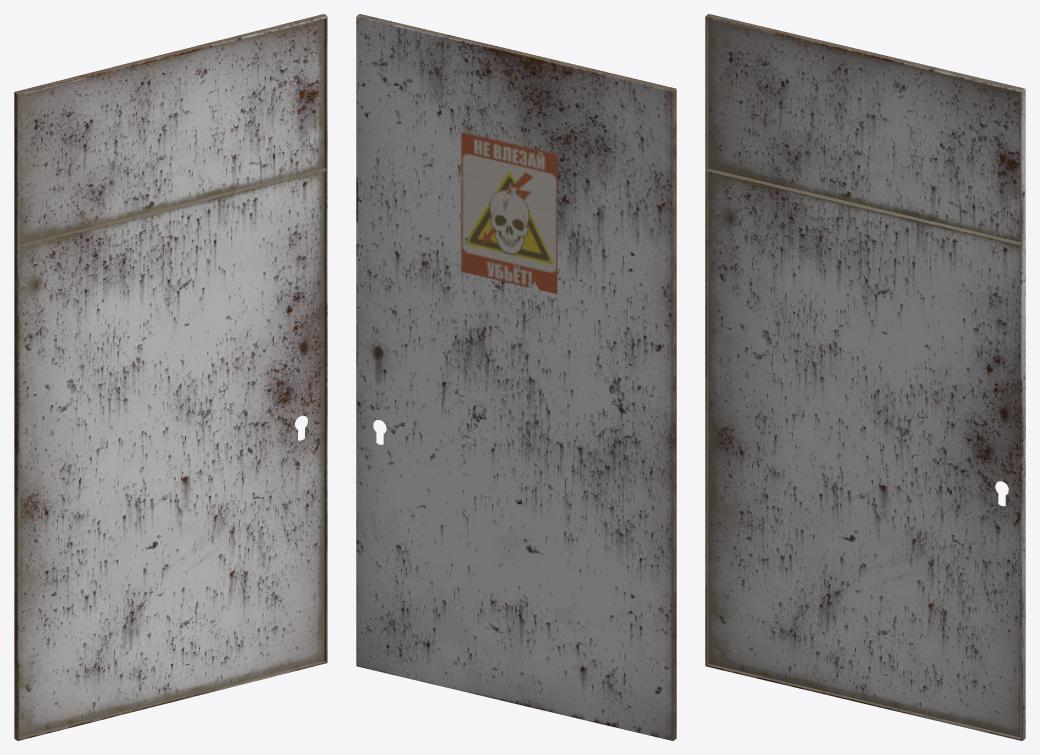
The model's file is elect door 1.fbx.
3 renders of one model, left to right at view 1: azimuth 30°, elevation 25°; view 2: azimuth 150°, elevation 25°; view 3: azimuth 330°, elevation 25°, orthographic.
Parts seen in each view (by area): view 1: Куб.002; view 2: Куб.002; view 3: Куб.002.
Boxes of the visible parts, x1=… form: Куб.002: x1=14, y1=14, x2=327, y2=740; Куб.002: x1=356, y1=14, x2=676, y2=740; Куб.002: x1=705, y1=14, x2=1025, y2=740.
Bounding box in the file's own units: 75.96 × 150 × 2.6.
